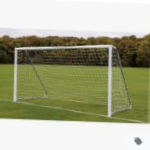goals: (11, 43, 135, 118)
